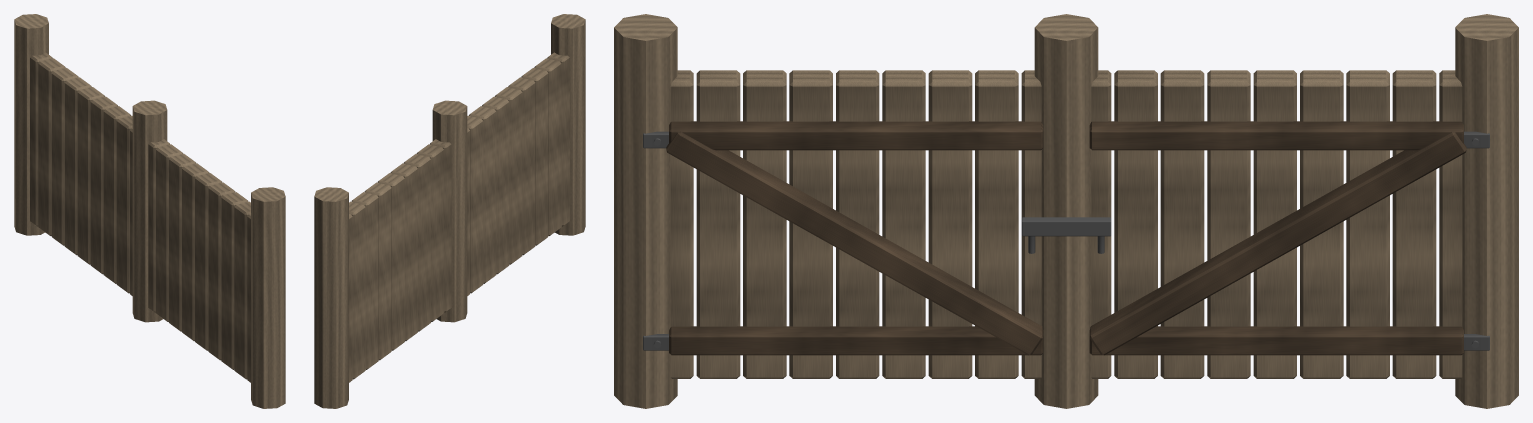
File: gate.glb
The picture shows the model from 3 angles, left to right: view 1: azimuth 30°, elevation 25°; view 2: azimuth 150°, elevation 25°; view 3: azimuth 270°, elevation 25°; orthographic projection. The views are drawn at different scales.
Visible parts, largest first — view 1: Timber worn edges; view 2: Timber worn edges; view 3: Timber worn edges, Dark endgrain, Oxidized dark steel.
Part boxes in pixels (left/top/right/bottom): Timber worn edges: left=14, top=14, right=285, bottom=408; Timber worn edges: left=314, top=14, right=585, bottom=408; Timber worn edges: left=614, top=14, right=1518, bottom=408; Dark endgrain: left=666, top=121, right=1466, bottom=355; Oxidized dark steel: left=643, top=131, right=1489, bottom=350.
Bounding box in the file's own units: 0.255 × 1.4 × 3.12.
Materials: 3 (2 with a texture image).
